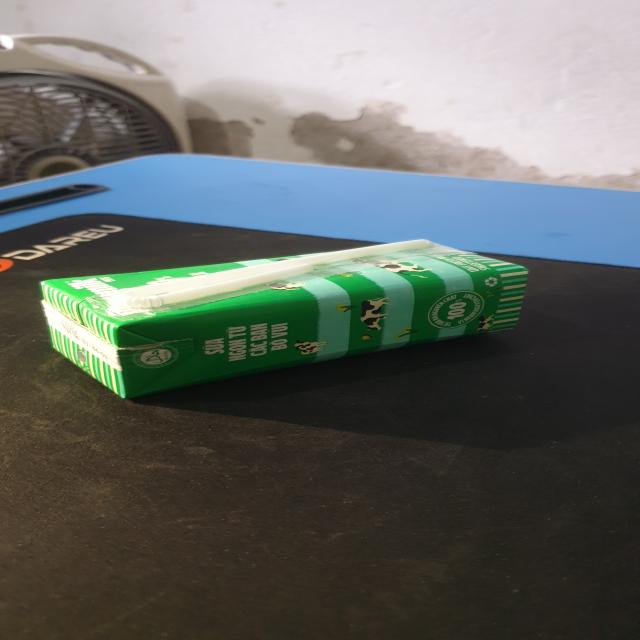Vina: (41, 239, 535, 398)
